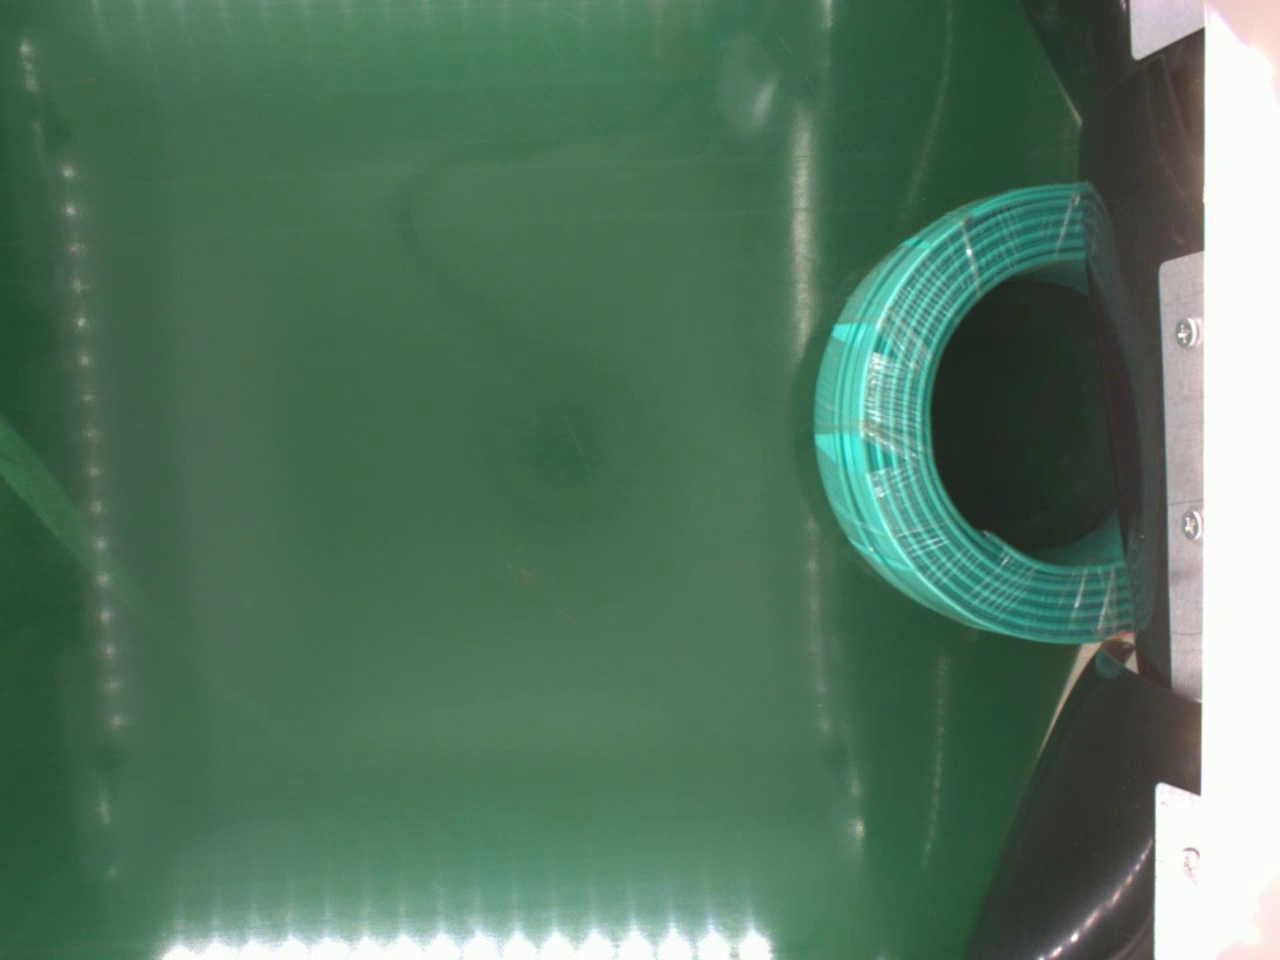green: (807, 181, 1133, 648)
